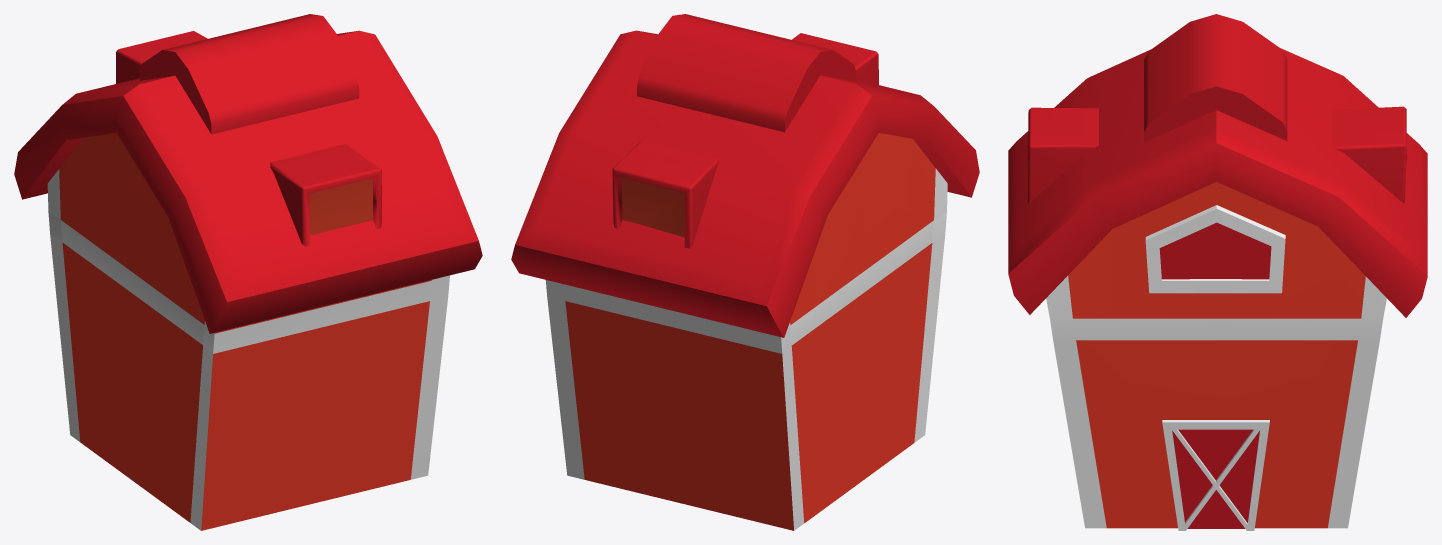
File: island3-hause.fbx
3 views of the same model, side by side, from view 1: azimuth 30°, elevation 25°; view 2: azimuth 150°, elevation 25°; view 3: azimuth 270°, elevation 25° (orthographic).
Parts seen in each view (by area): view 1: islnd3-hause; view 2: islnd3-hause; view 3: islnd3-hause.
Boxes of the visible parts, <box> form: islnd3-hause: <box>14,14,482,530</box>; islnd3-hause: <box>511,14,979,530</box>; islnd3-hause: <box>1008,14,1427,530</box>.
Size of the model in its own units: 5.72 by 8.69 by 7.81.
Materials: 1 (1 with a texture image).
